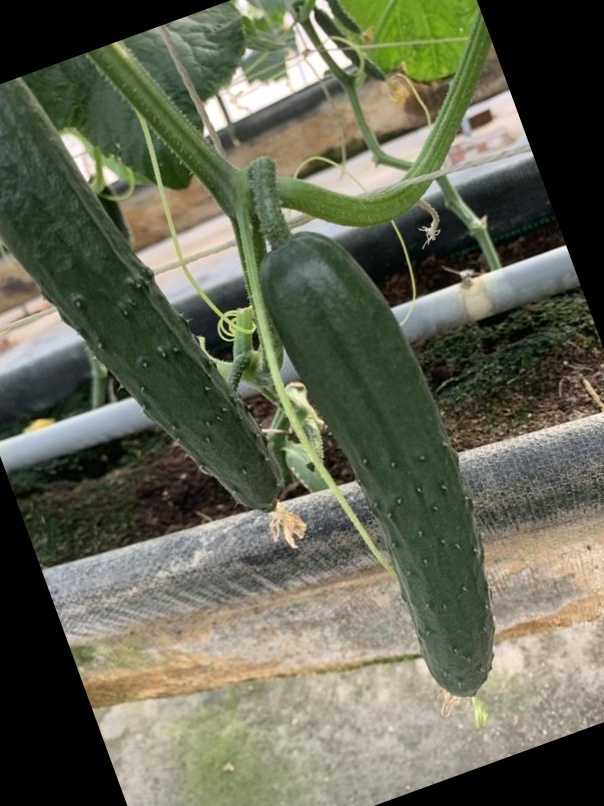mature: (2, 77, 291, 512), (257, 232, 499, 698)
